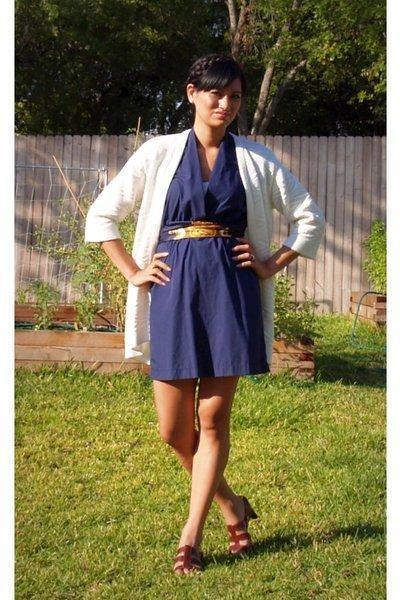dress: (148, 127, 269, 380)
jacket: (85, 127, 333, 365)
shoe: (171, 496, 257, 576)
